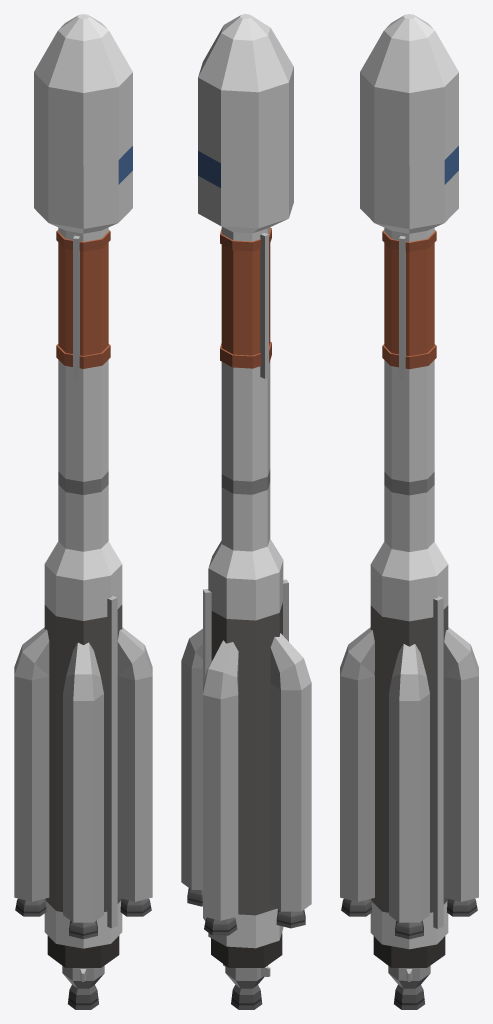
Rendered from SM_Veh_Rocket_06.fbx.
3 renders of one model, left to right at view 1: azimuth 90°, elevation 25°; view 2: azimuth 150°, elevation 25°; view 3: azimuth 270°, elevation 25°, orthographic.
Parts seen in each view (by area): view 1: SM_Veh_Rocket_06; view 2: SM_Veh_Rocket_06; view 3: SM_Veh_Rocket_06.
Boxes of the visible parts, left/top/right/bottom form: SM_Veh_Rocket_06: left=14, top=14, right=152, bottom=1009; SM_Veh_Rocket_06: left=181, top=14, right=311, bottom=1009; SM_Veh_Rocket_06: left=340, top=14, right=478, bottom=1009.
Bounding box in the file's own units: 2.93 × 23.05 × 2.93.
